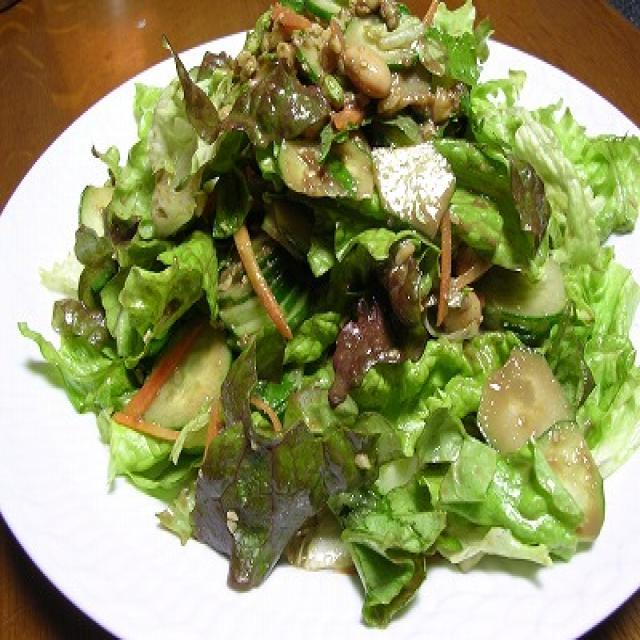Green Salad: (47, 6, 624, 546)
